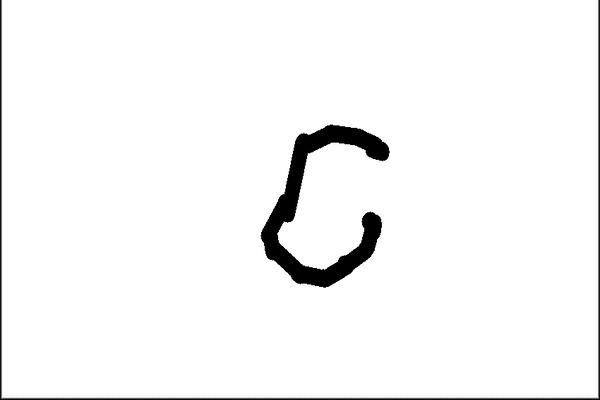C: (256, 120, 396, 291)
